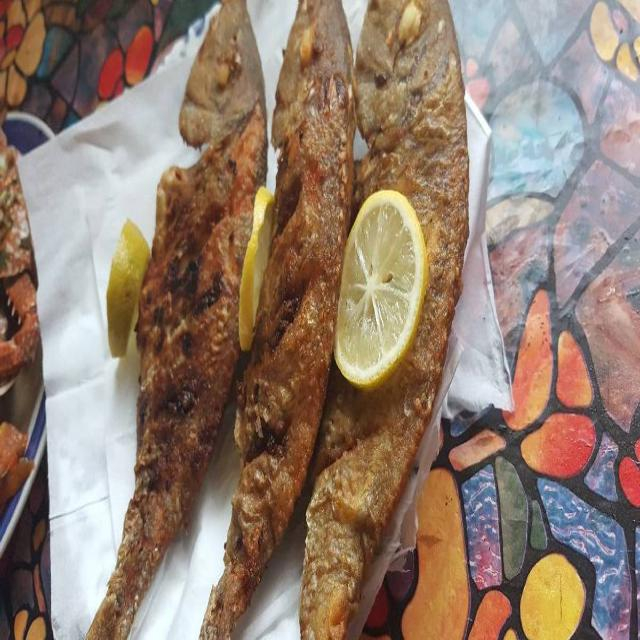Peixe: (82, 0, 471, 638), (83, 1, 268, 637), (298, 0, 470, 638), (197, 1, 357, 637)
